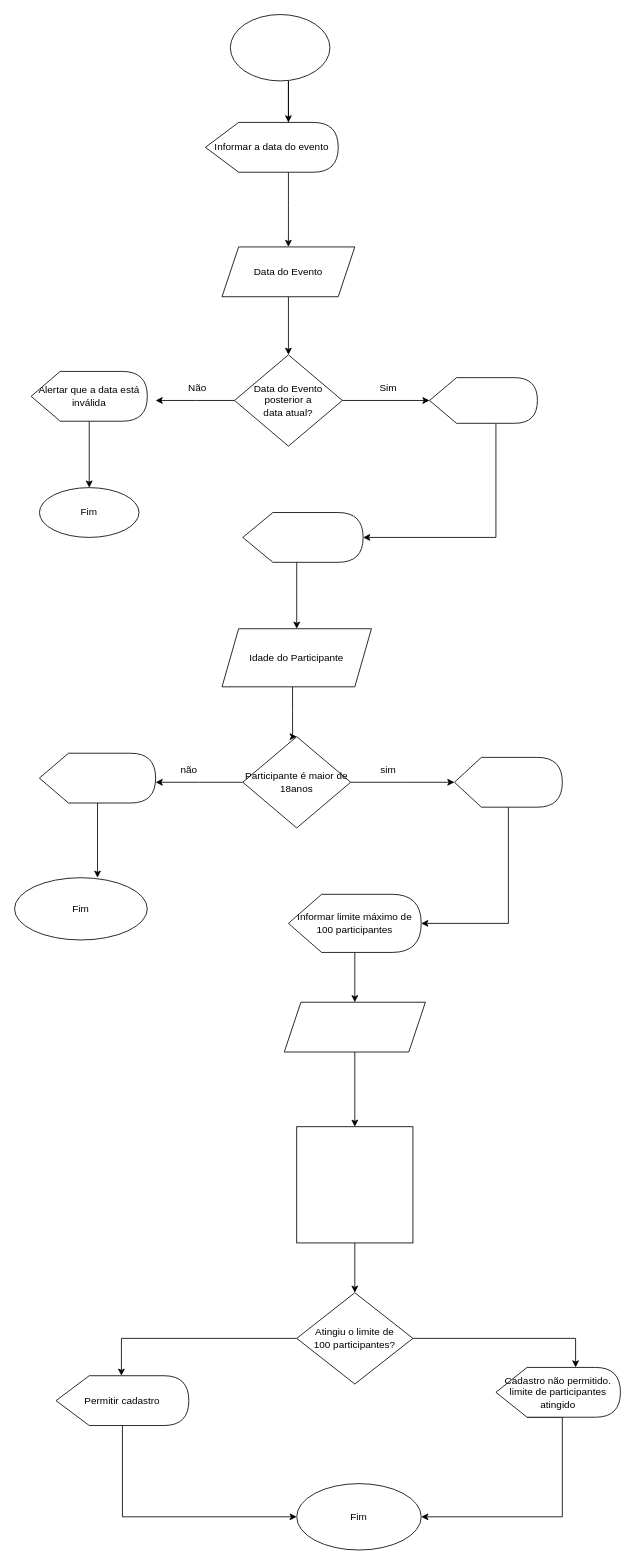
Some shapes in this 635 by 1565 pixel diagram are drawn without their labels. Each missing label, with the centre of its shape:
Alertar que o cadastro não é permitido pela idade.: pixel 97 777
Cadastro do participante: pixel 354 1026
Contagem do numero de participantes do evento até atingir 100 pessoas.: pixel 354 1184
Informar a idade do Participante: pixel 302 537
Permitir acesso: pixel 508 782
Permitir evento: pixel 483 400
Ínicio: pixel 279 47
